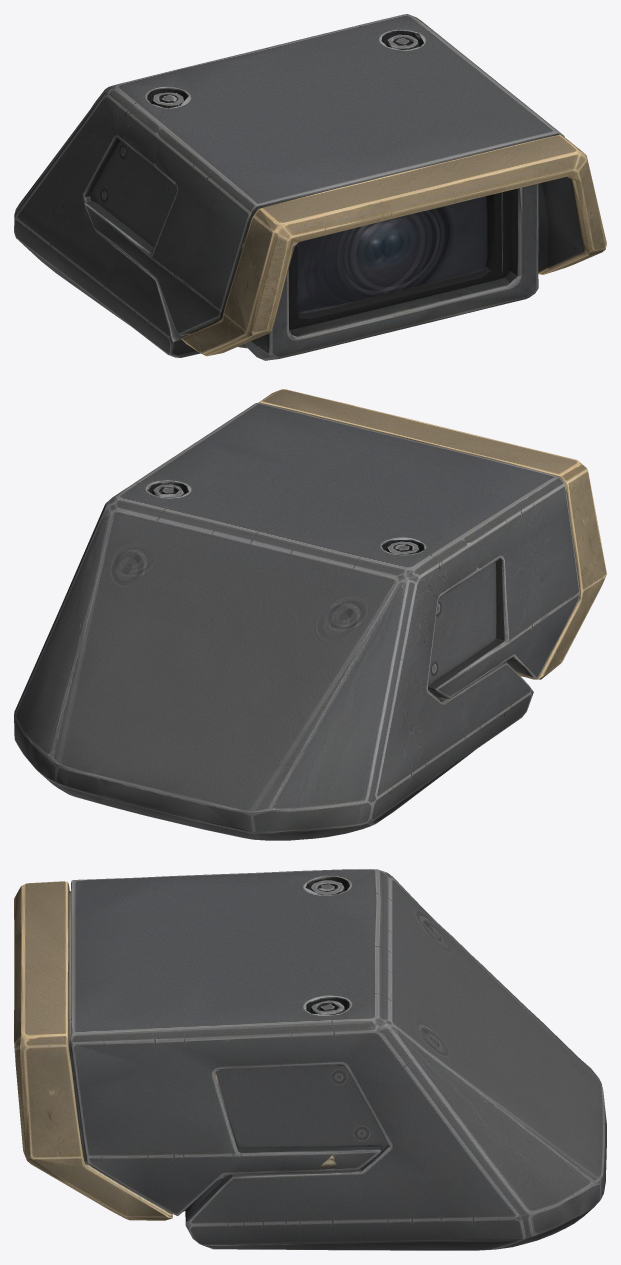
The model's file is imperial_point_defence_turret__sensor_head.glb.
3 renders of one model, top to bottom at view 1: azimuth 30°, elevation 25°; view 2: azimuth 150°, elevation 25°; view 3: azimuth 270°, elevation 25°, orthographic. The views are drawn at different scales.
Visible parts, largest first — view 1: mesh_node; view 2: mesh_node; view 3: mesh_node.
Part boxes in pixels (x1,y1,x2,y2): mesh_node: (14, 14, 606, 360); mesh_node: (14, 389, 606, 840); mesh_node: (14, 869, 606, 1250).
Size of the model in its own units: 1.17 by 0.7989 by 1.58.
Materials: 1 (1 with a texture image).
